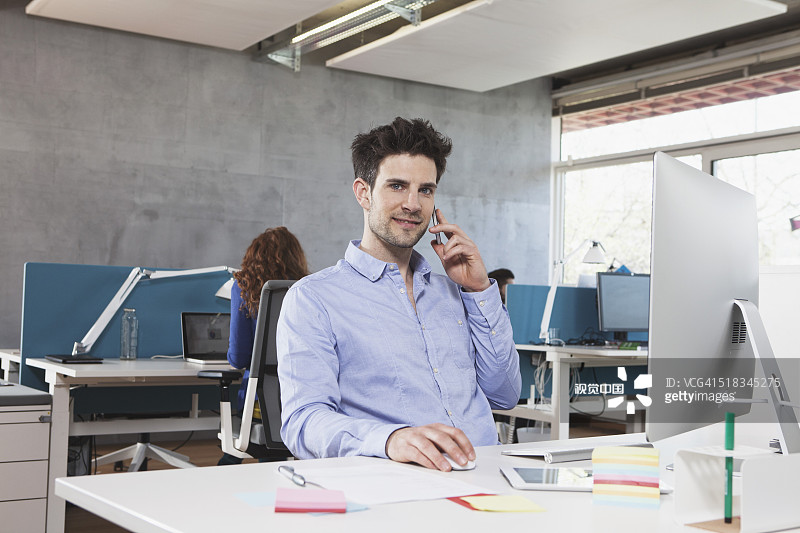calling: (422, 198, 506, 298)
no-phone: (381, 414, 485, 476)
